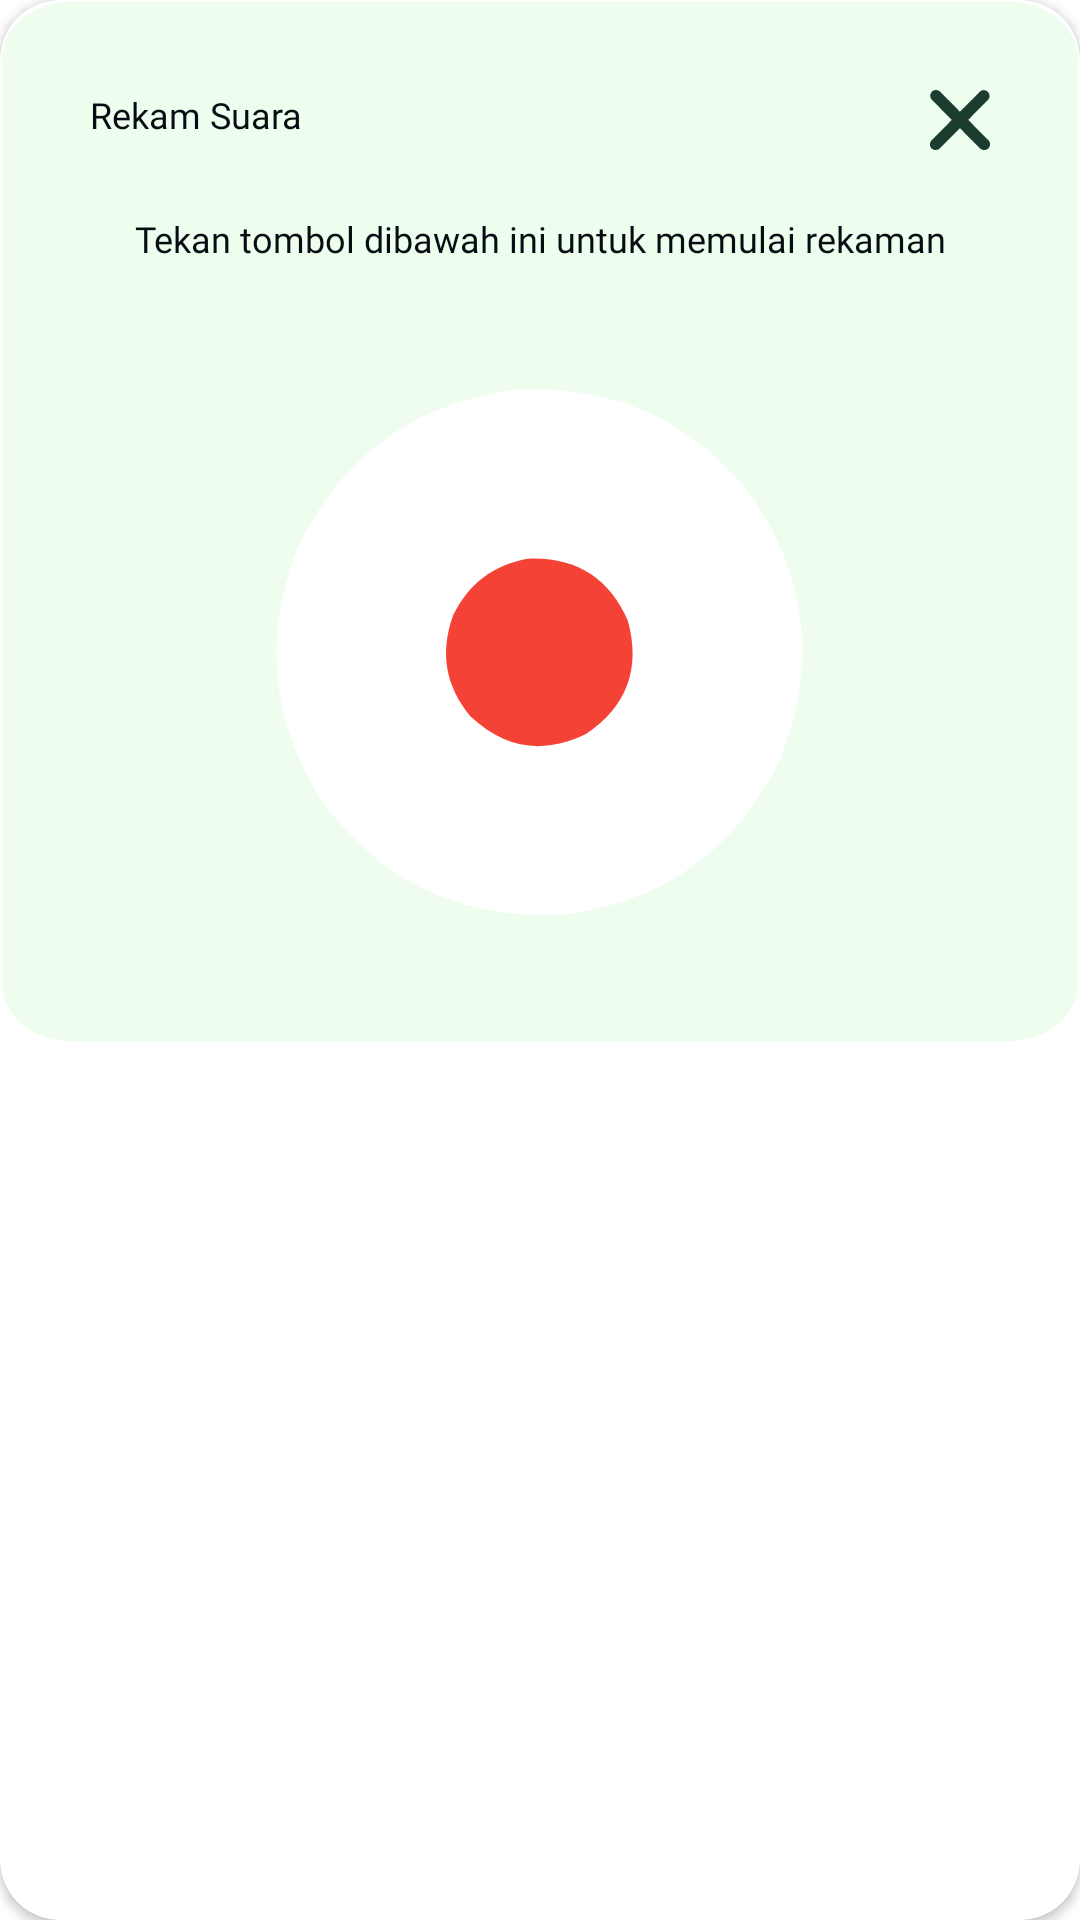

Point at icon controls on the screen. Image size 1080x1920, points as (x=x, y=y).
rekam start: (x=539, y=652)
Tutup: (x=960, y=120)
